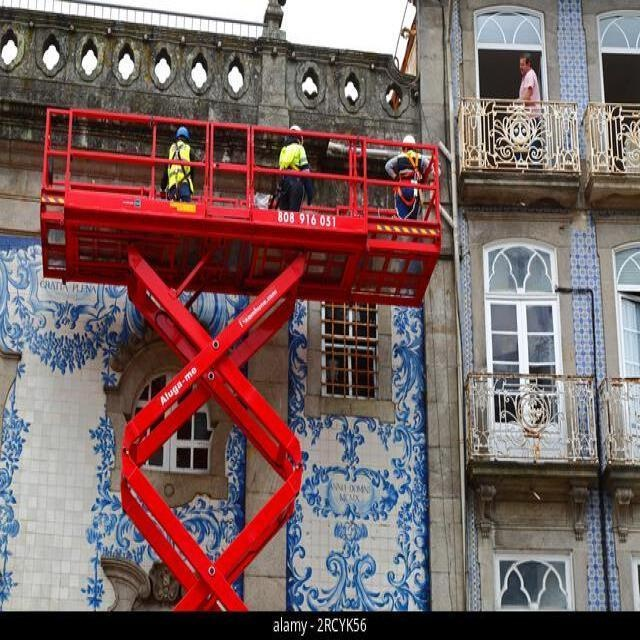Arnes_seguridad: (398, 151, 421, 197), (169, 143, 190, 185)
